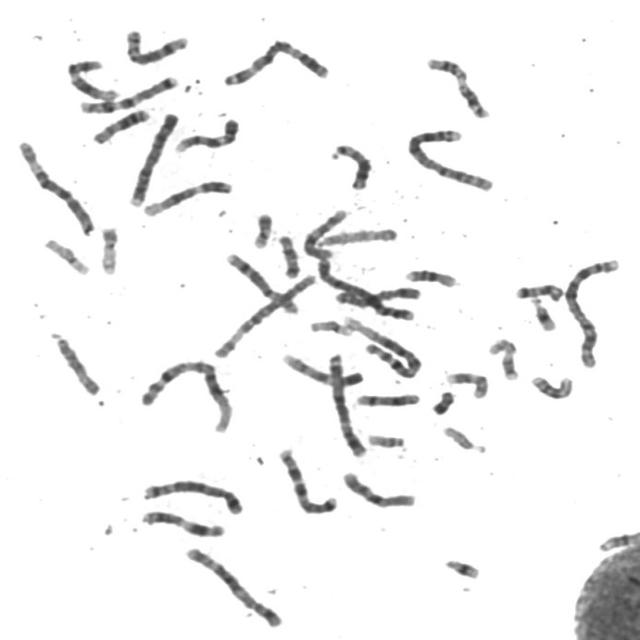A1: (134, 353, 236, 435), (337, 311, 423, 378)
A2: (558, 253, 624, 370), (401, 124, 497, 193)
A3: (216, 34, 332, 88), (322, 348, 369, 458)
B4: (311, 252, 417, 323), (122, 105, 182, 208)
B5: (179, 541, 286, 629), (137, 474, 246, 516)
C10: (336, 467, 419, 510), (296, 204, 350, 260)
C11: (420, 50, 492, 120), (135, 504, 228, 540)
C12: (136, 174, 234, 218), (61, 54, 121, 101)
C6: (208, 268, 320, 359), (11, 134, 97, 237)
C7: (273, 444, 340, 516), (74, 71, 180, 114)
C8: (220, 247, 301, 316), (120, 23, 192, 67)
C9: (276, 348, 366, 388), (170, 114, 242, 154)
D13: (87, 103, 153, 145), (326, 138, 373, 192)
D14: (350, 386, 422, 408), (594, 529, 639, 555)
D15: (45, 326, 103, 397), (313, 222, 400, 248)
E16: (525, 369, 576, 400), (400, 263, 460, 288)
E17: (482, 332, 522, 382), (442, 366, 491, 399)
E18: (272, 230, 303, 280), (510, 278, 566, 303)
F19: (38, 232, 93, 277), (304, 314, 354, 338)
F20: (94, 220, 122, 276), (247, 208, 275, 250)
G21: (526, 292, 559, 332), (438, 552, 483, 581)
G22: (437, 420, 488, 454), (362, 429, 408, 449)
X: (329, 281, 423, 309)
Y: (426, 385, 458, 416)
